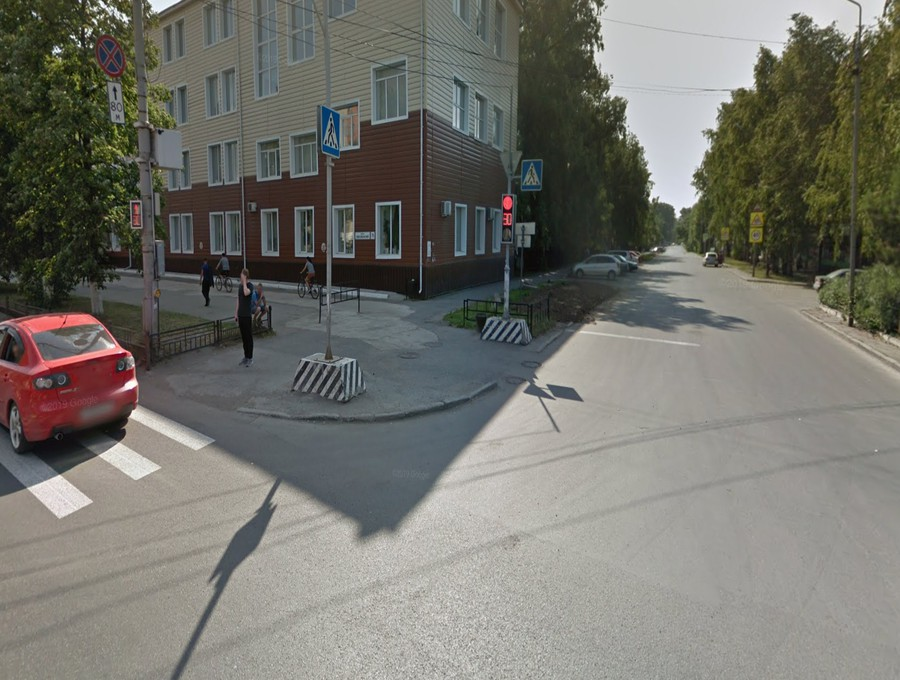Traffic Light-red: (128, 199, 146, 233)
